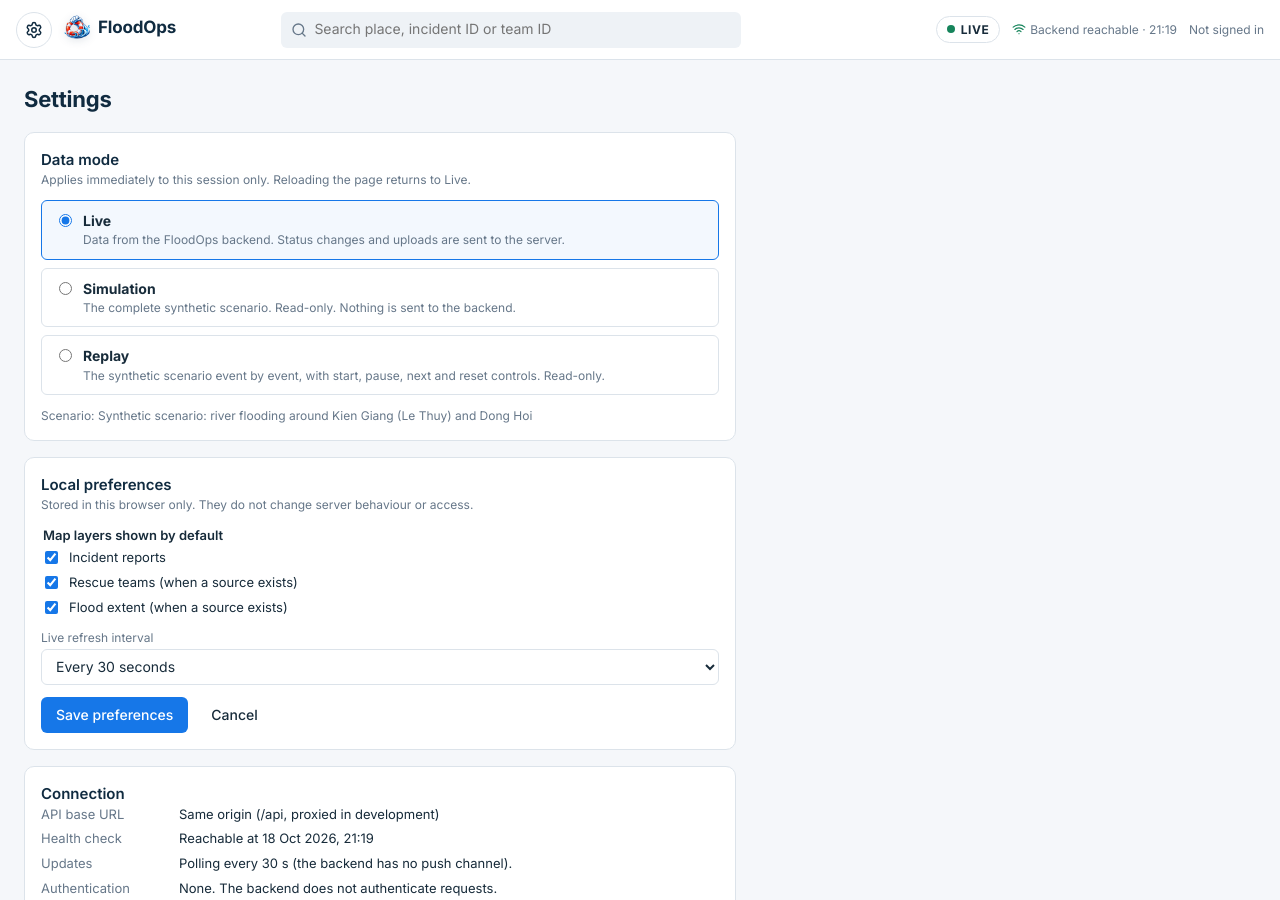
Test: data modes › replay is deterministic and reset restores the initial state
The width and height of the screenshot is (1280, 900).
Click the radio button labelled "Replay" at (66, 356), box [59, 349, 72, 362]
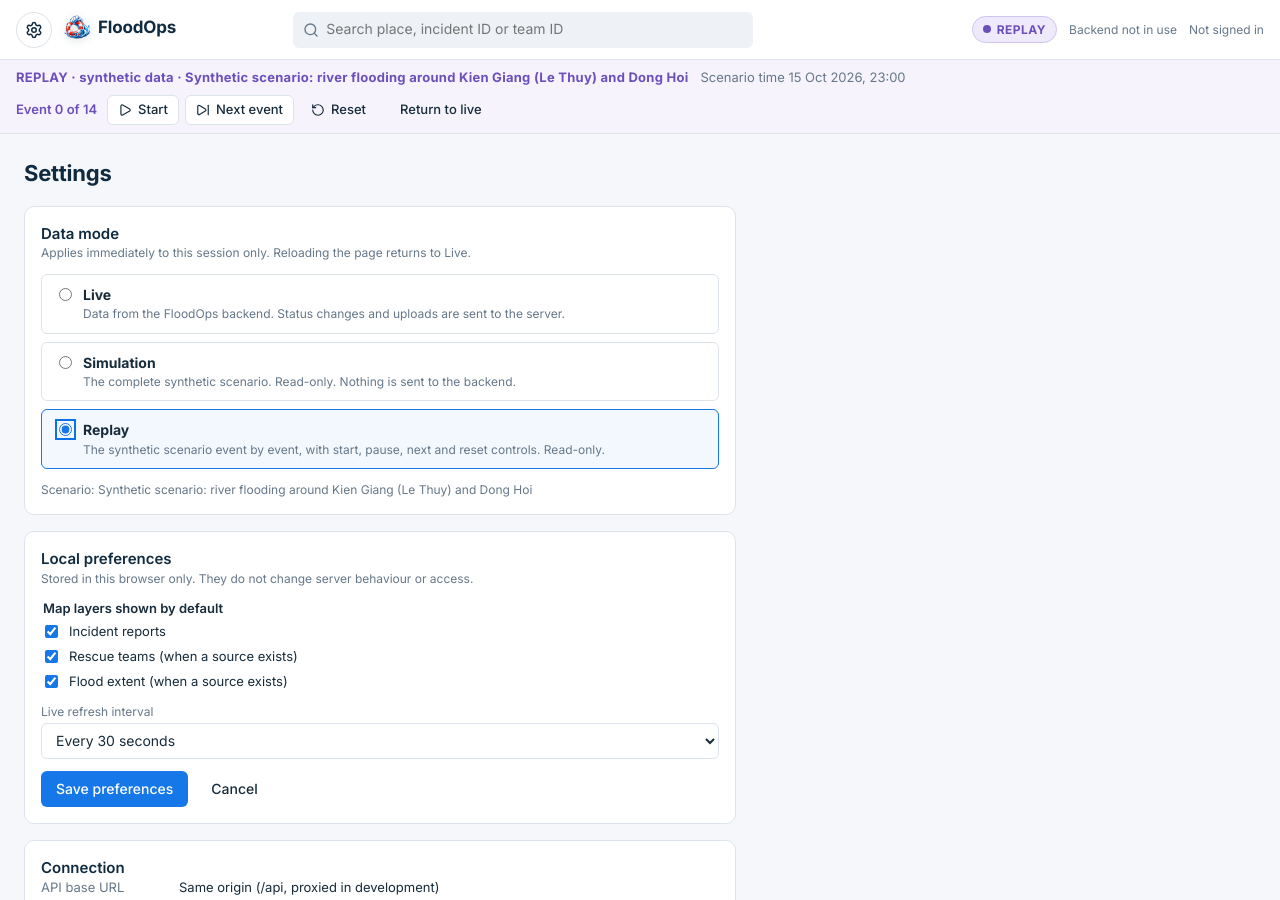
expect the text "Event 0 of 14" is shown: met, box [16, 100, 97, 119]
Click the button "Start" at (143, 110), box [107, 95, 179, 125]
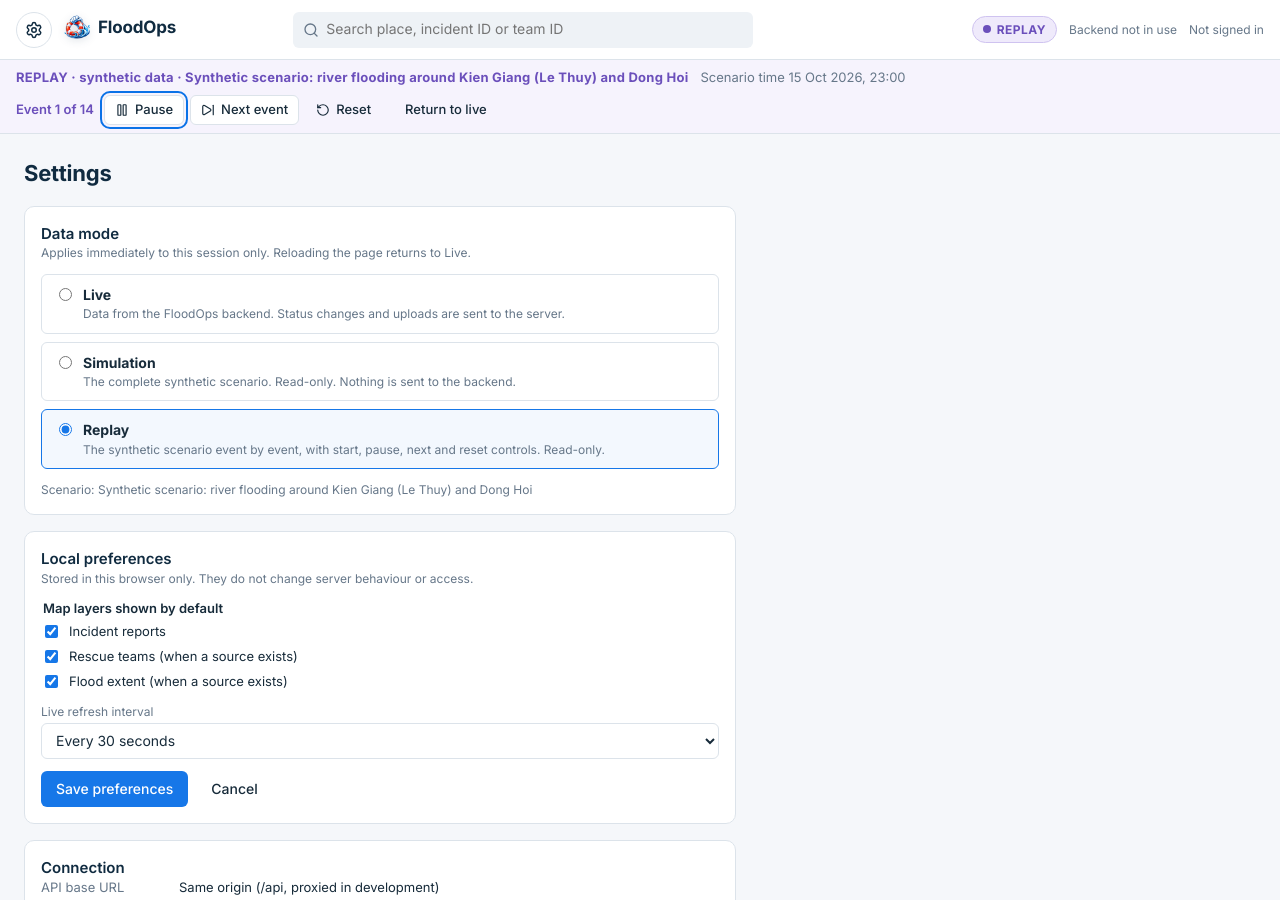
Click the button "Pause" at (144, 110), box [104, 95, 184, 125]
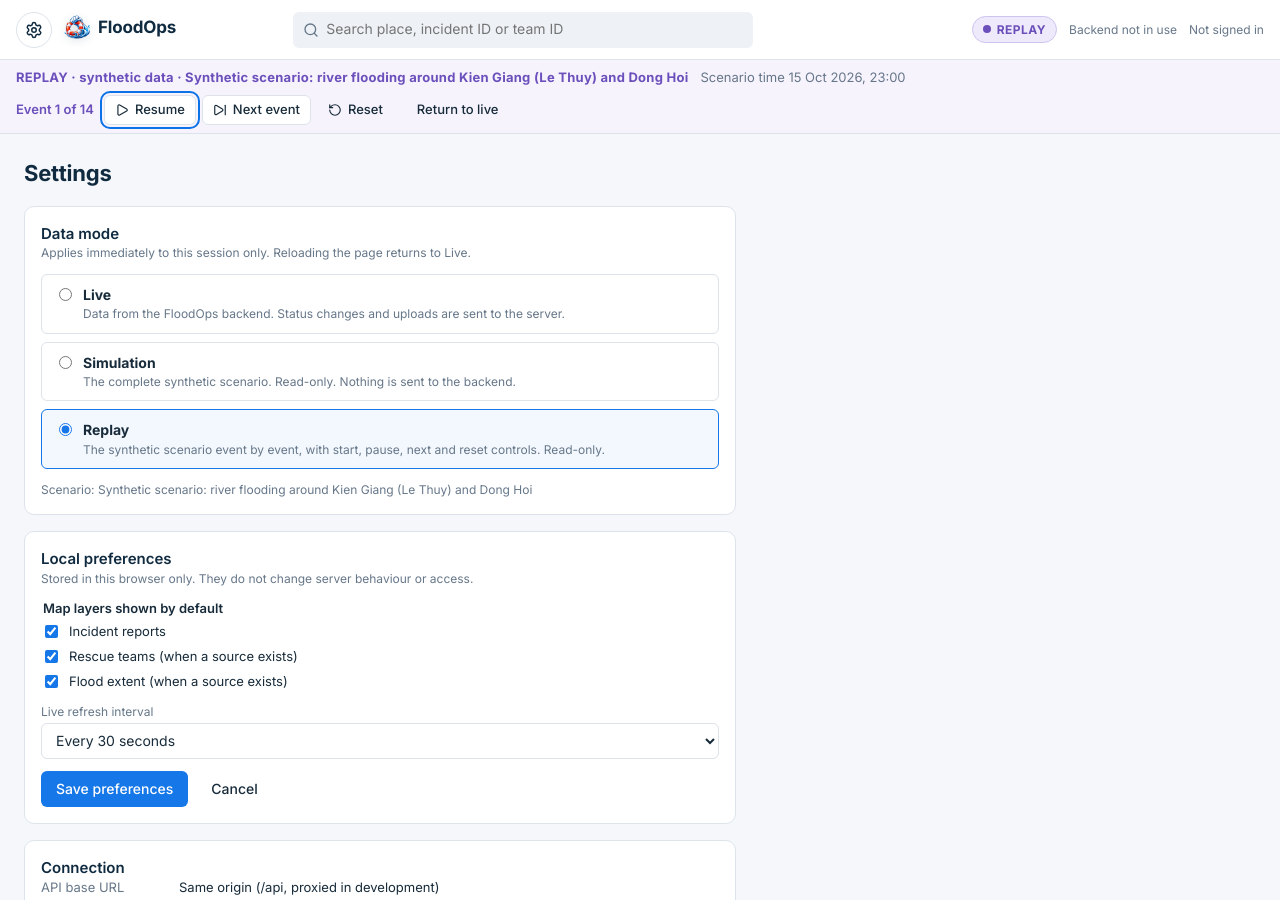
Click the button "Next event" at (256, 110), box [202, 95, 311, 125]
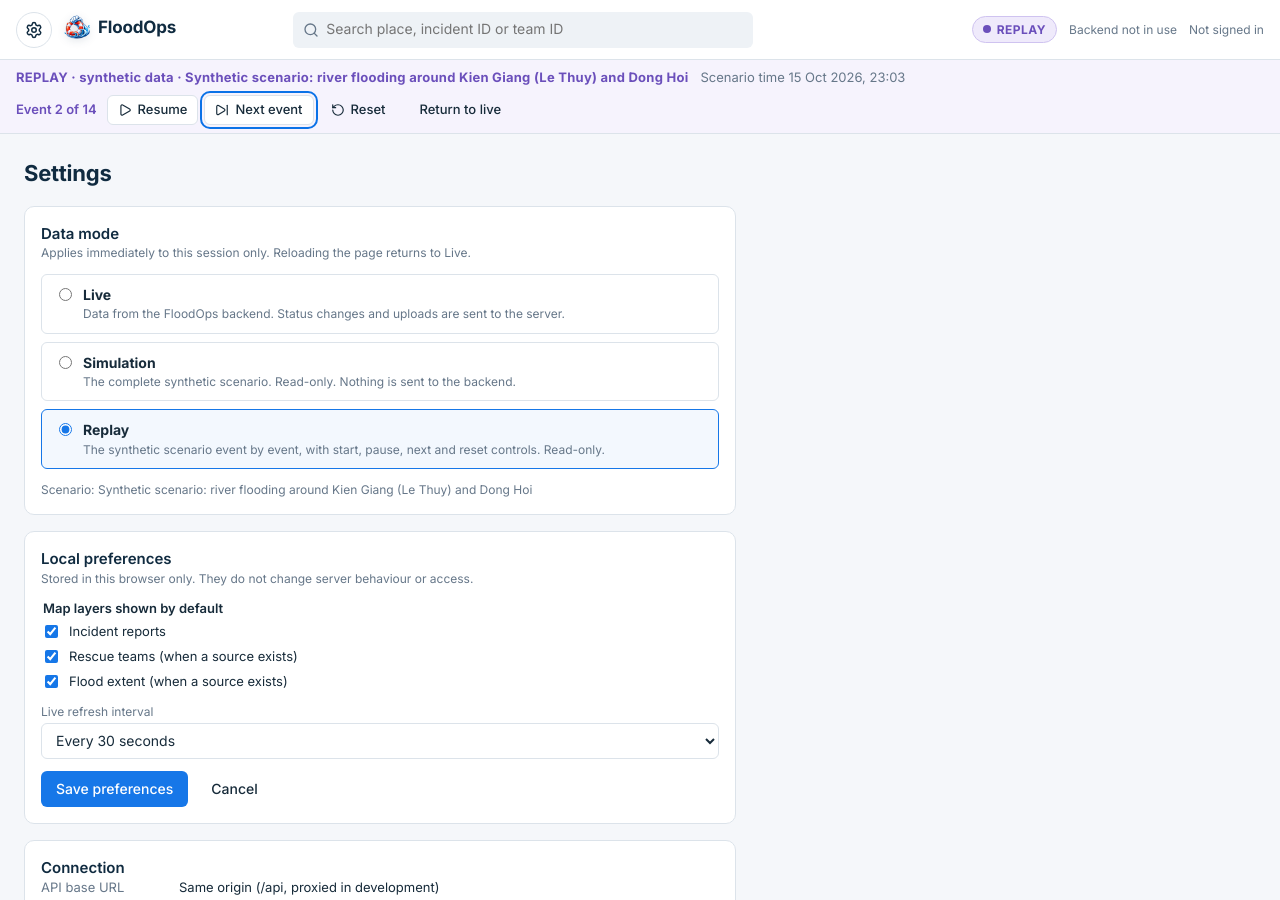
expect the text "Event 2 of 14" is shown: met, box [16, 100, 97, 119]
Click the button "Reset" at (358, 110), box [320, 95, 396, 125]
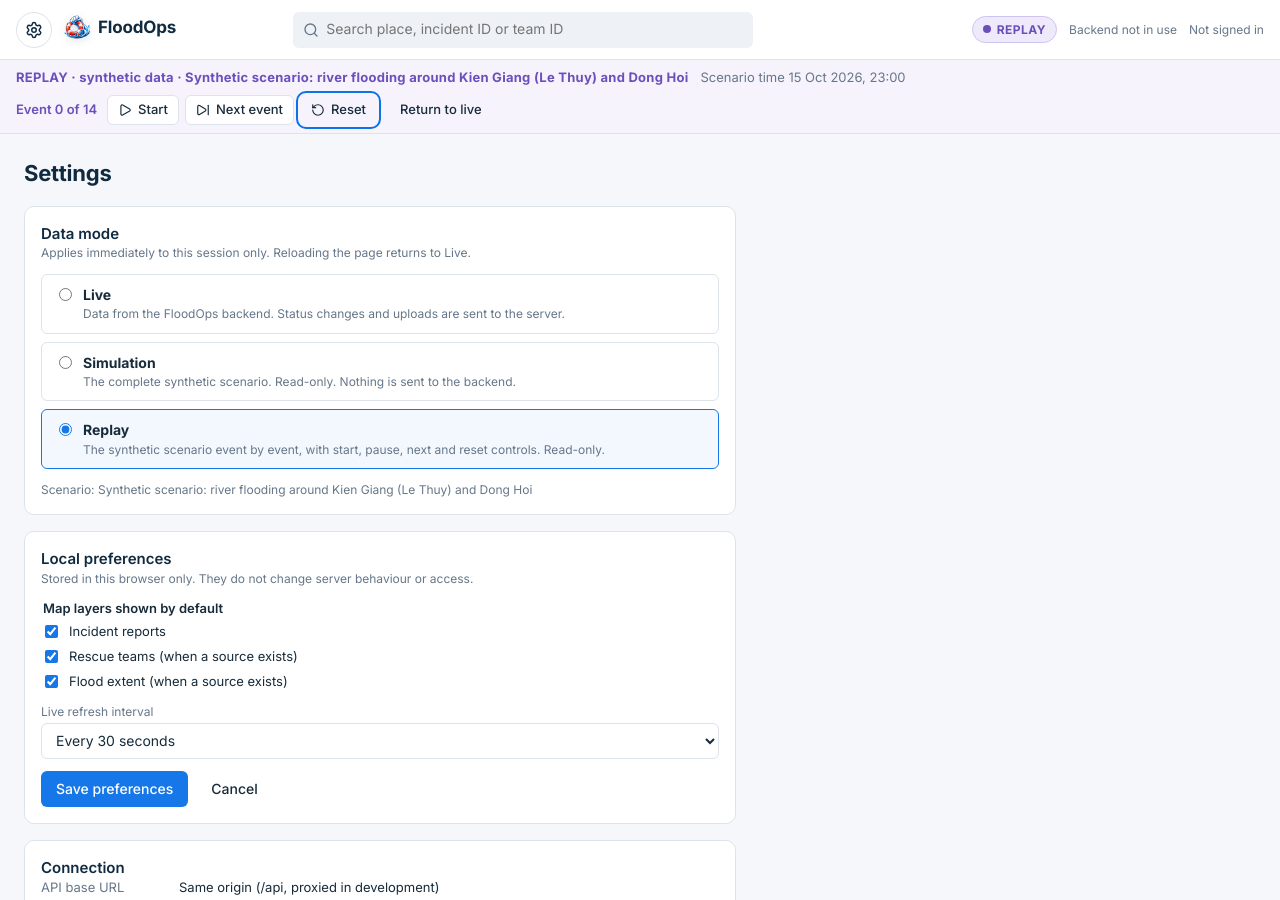
expect the text "Event 0 of 14" is shown: met, box [16, 100, 97, 119]
